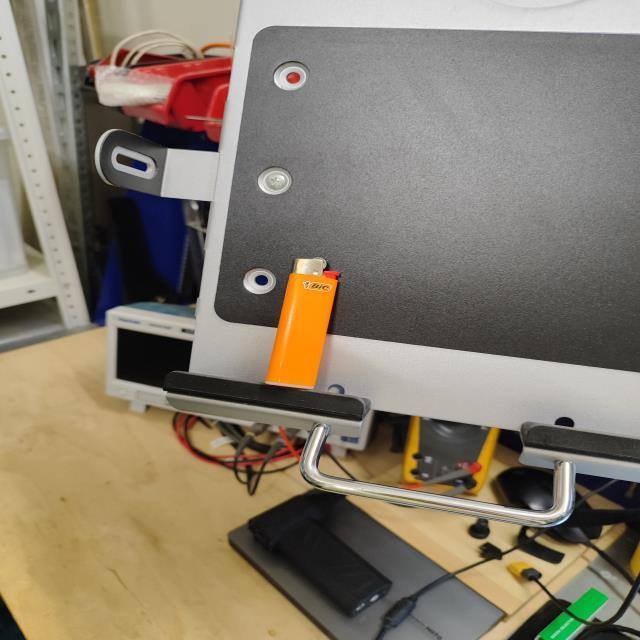lighter: (265, 259, 338, 389)
